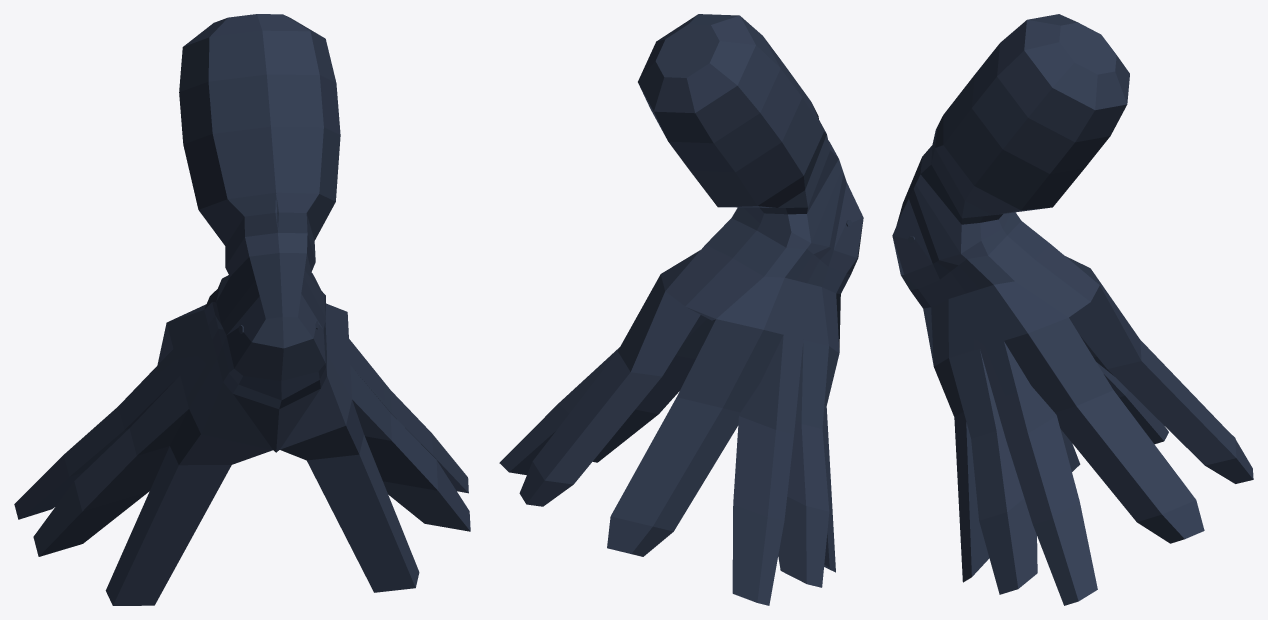
File: octopus.fbx
3 renders of one model, left to right at view 1: azimuth 30°, elevation 25°; view 2: azimuth 150°, elevation 25°; view 3: azimuth 270°, elevation 25°, orthographic. The views are drawn at different scales.
Parts seen in each view (by area): view 1: octopus; view 2: octopus; view 3: octopus.
Part boxes in pixels (left/top/right/bottom): octopus: left=14, top=14, right=470, bottom=605; octopus: left=499, top=14, right=863, bottom=605; octopus: left=892, top=14, right=1253, bottom=605.
Size of the model in its own units: 239 by 328 by 210.
Materials: 1 (1 with a texture image).
